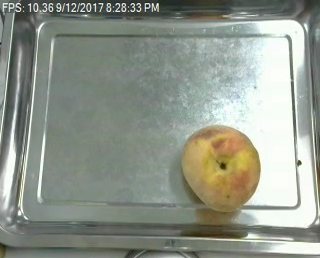Peach: (182, 123, 261, 212)
